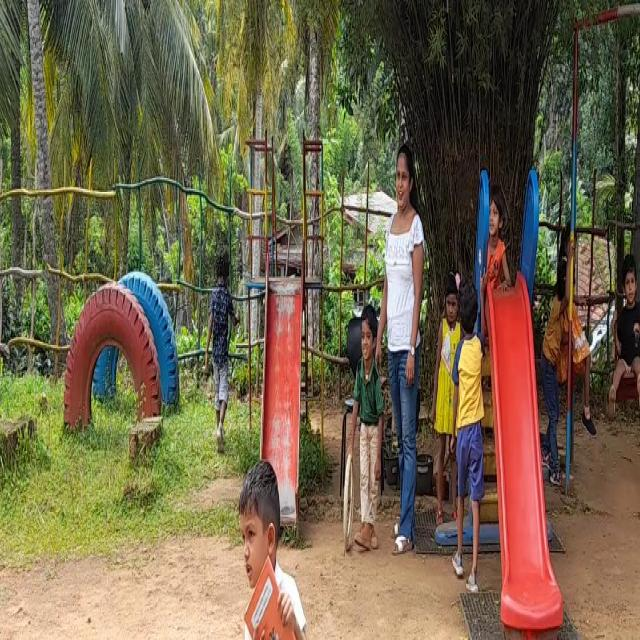adult: (381, 130, 417, 558)
child: (236, 471, 310, 640), (345, 294, 382, 542), (456, 297, 488, 571), (202, 231, 230, 454), (609, 236, 640, 406), (441, 290, 456, 511)
